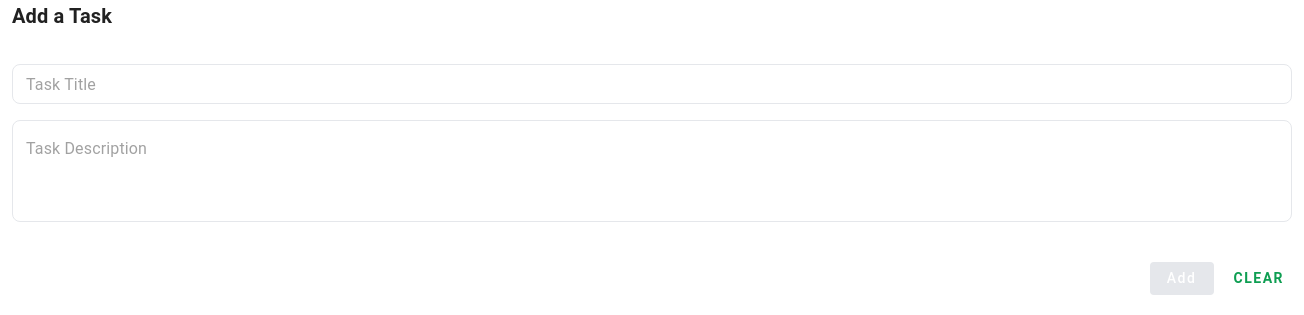
Test: AddTaskForm › should clear form fields when Clear button is clicked
Step 1. Type "Test Task" into the field with placeholder "Task Title" → (652, 84), box [12,64,1292,104]
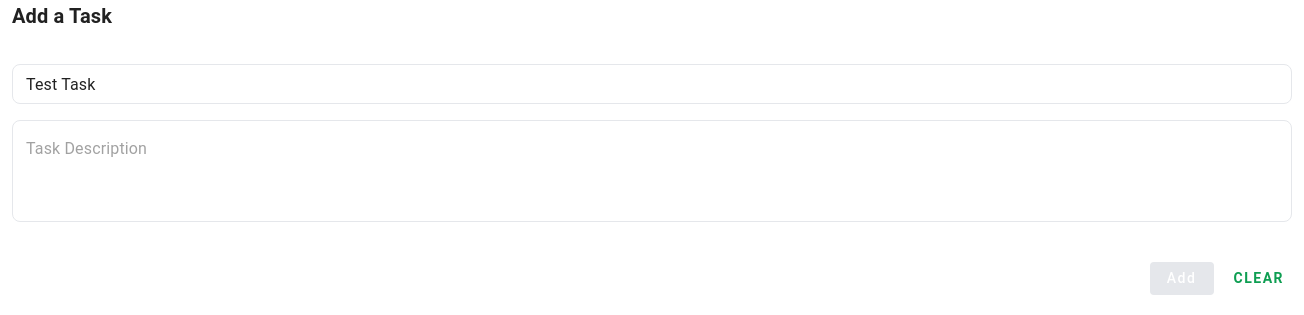
Step 2. Type "Test Description" into the text box with placeholder "Task Description" → (652, 171), box [26,136,1278,206]
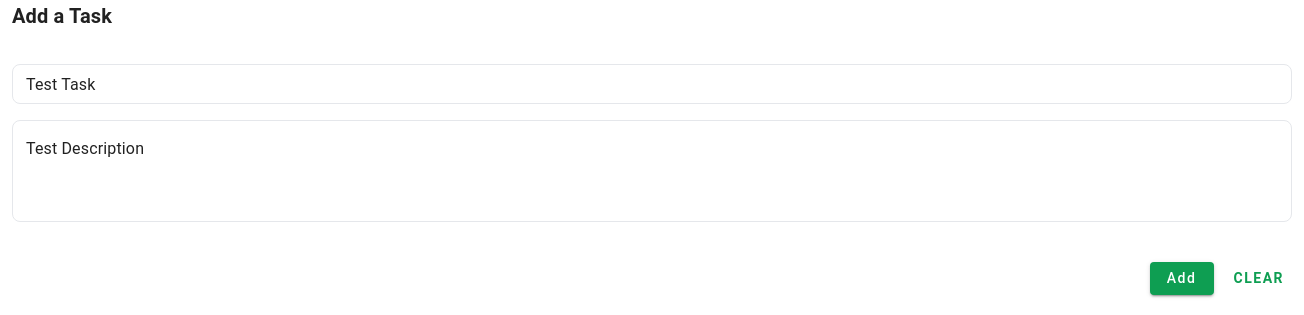
Step 3. Click the button "Clear" → (1259, 278), box [1226,262,1292,295]
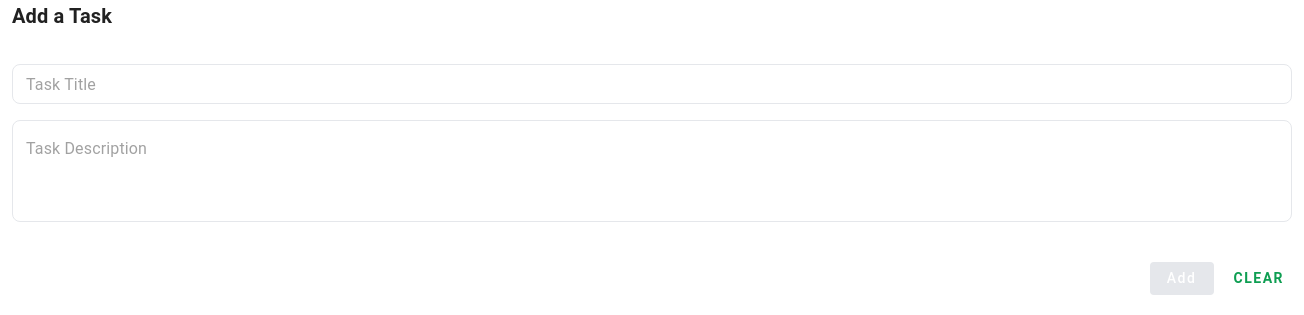
Now the field with placeholder "Task Title" is empty, box [12,64,1292,104]
Now the text box with placeholder "Task Description" is empty, box [26,136,1278,206]
